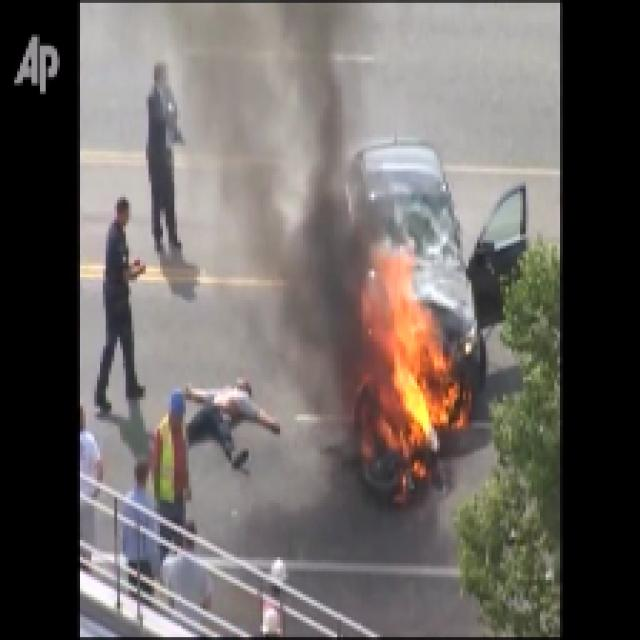fire: (386, 305, 444, 432)
smoke: (292, 85, 367, 372)
